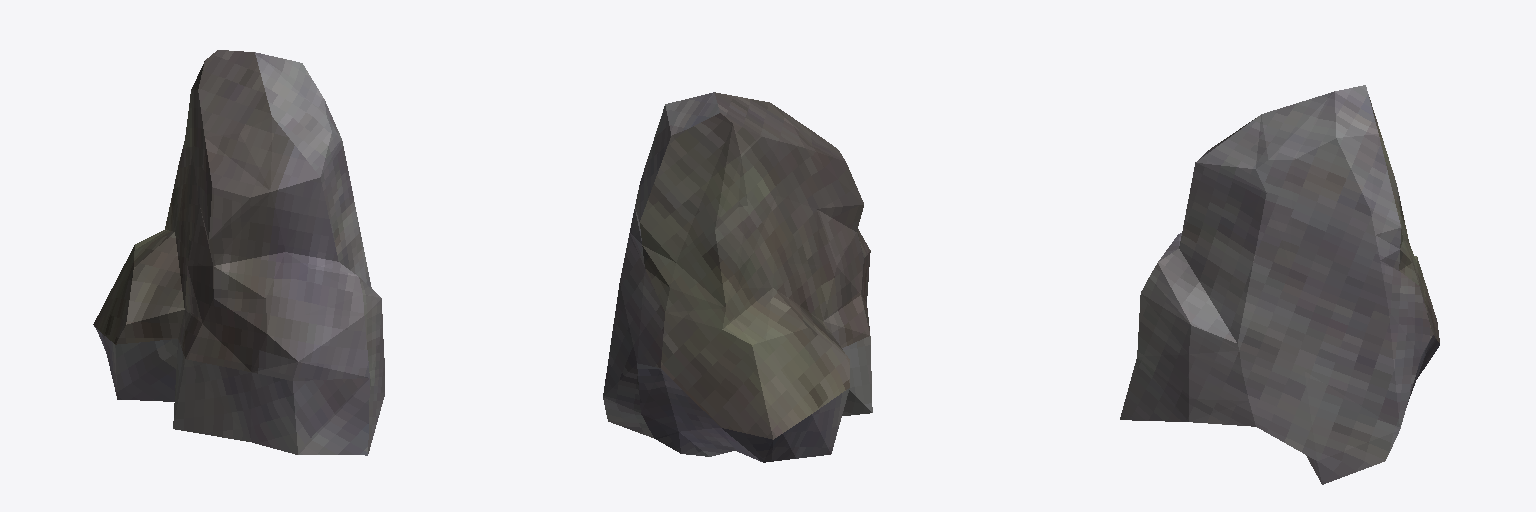
The picture shows the model from 3 angles: view 1: azimuth 30°, elevation 25°; view 2: azimuth 150°, elevation 25°; view 3: azimuth 270°, elevation 25°; orthographic projection.
Parts seen in each view (by area): view 1: Rock_1; view 2: Rock_1; view 3: Rock_1.
Part boxes in pixels (x1,y1,x2,y2): Rock_1: (93,50,384,455); Rock_1: (603,92,872,462); Rock_1: (1120,85,1439,484).
Size of the model in its own units: 0.7107 by 1.08 by 0.8874.
1 materials, 1 textured.